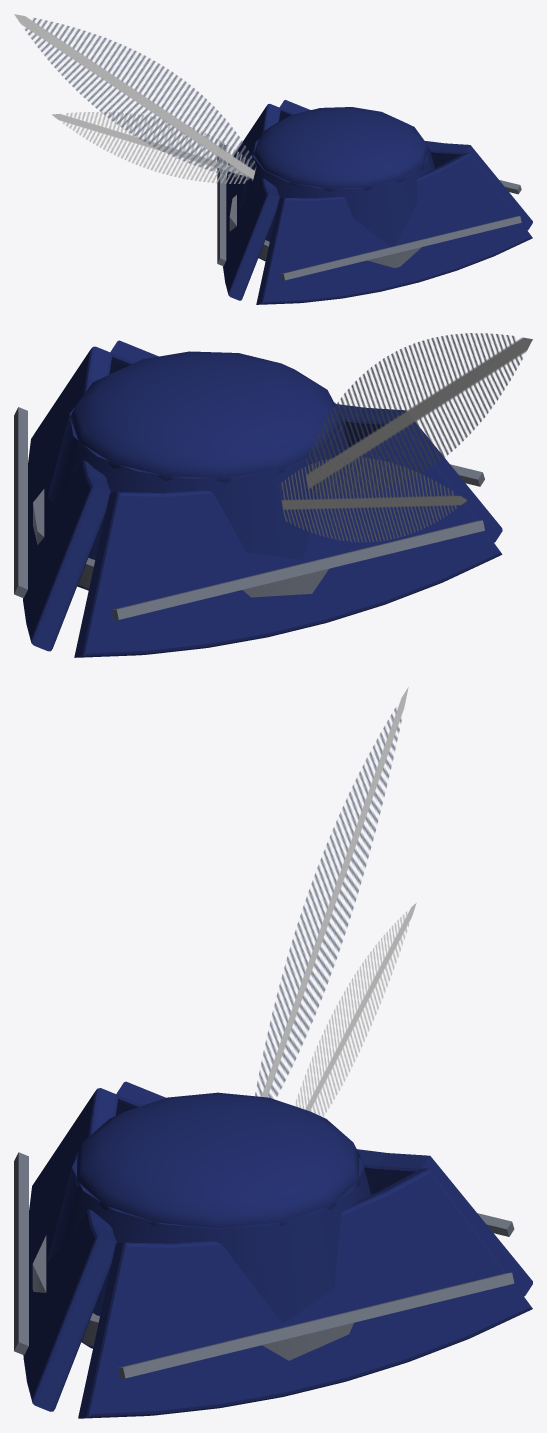
The model's file is hat_eqen0.glb.
3 renders of one model, top to bottom at view 1: azimuth 30°, elevation 25°; view 2: azimuth 150°, elevation 25°; view 3: azimuth 270°, elevation 25°, orthographic. The views are drawn at different scales.
Bounding box in the file's own units: 4.13 × 2.41 × 2.68.
4 materials, 2 textured.
